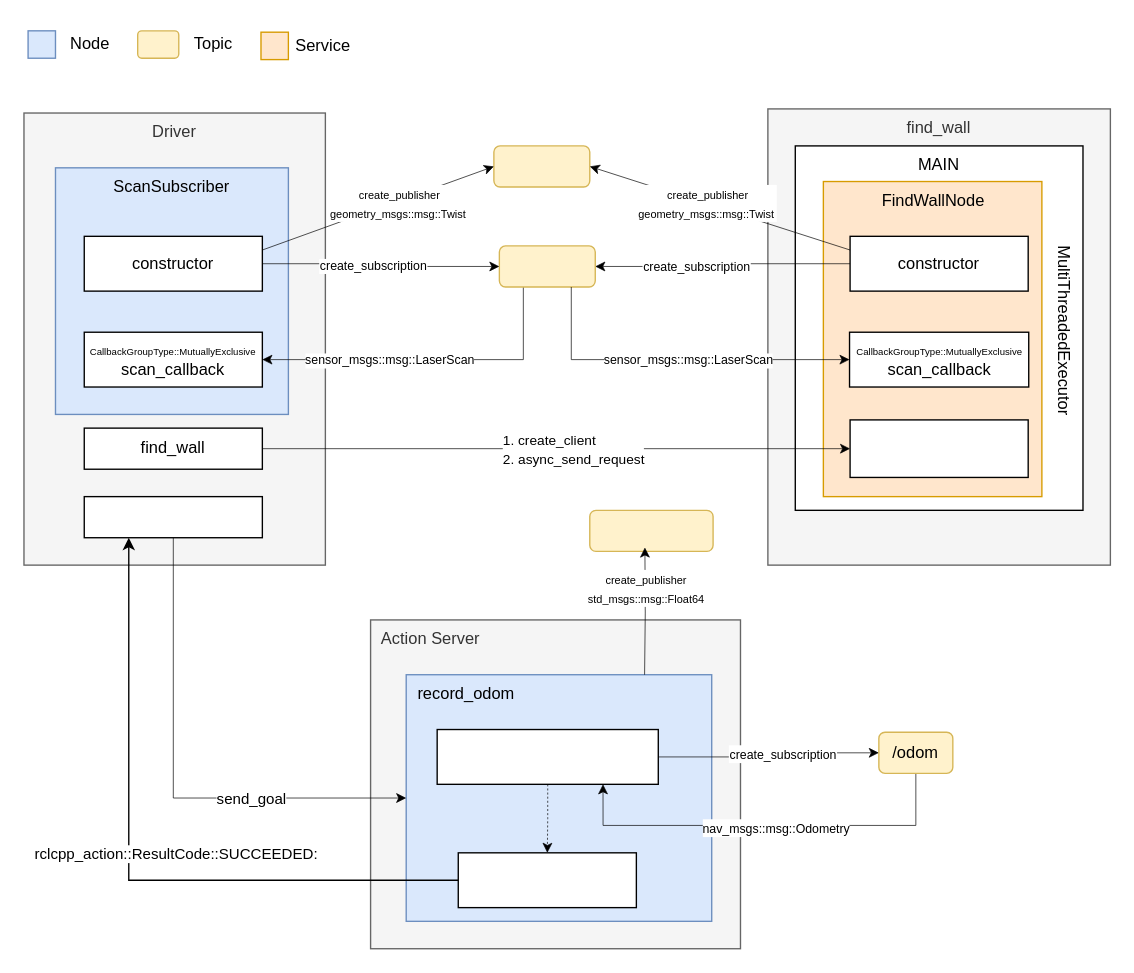
Image size: 1134x973. Some labels were removed from this diagram. Here are the shapes that lost their labels. From the top down, the centre of each, then its label:
At (541,166): "/cmd_vel".
At (546,266): "/scan".
At (938,448): "CallbackGroupType::MutuallyExclusive move_callback".
At (172,516): "action_client".
At (650,530): "/total_distance".
At (547,756): "CallbackGroupType::MutuallyExclusive odom_callback".
At (546,879): "Lap calculator".
